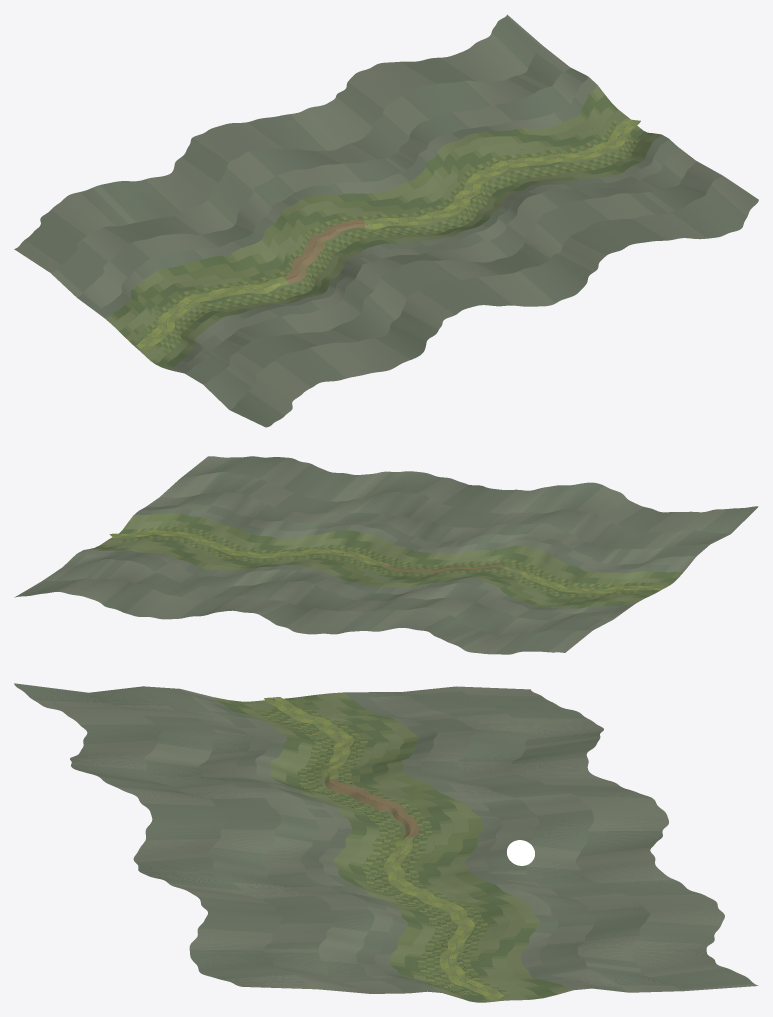
The model's file is dales.glb.
3 renders of one model, top to bottom at view 1: azimuth 30°, elevation 25°; view 2: azimuth 150°, elevation 25°; view 3: azimuth 270°, elevation 25°, orthographic. The views are drawn at different scales.
Visible parts, largest first — view 1: Peaks; view 2: Peaks; view 3: Peaks, Sun.
Boxes of the visible parts, <box> form: Peaks: <box>14,14,758,427</box>; Peaks: <box>14,456,758,654</box>; Peaks: <box>14,683,758,1002</box>; Sun: <box>507,840,534,865</box>.
Size of the model in its own units: 21245 by 2872 by 21909.
